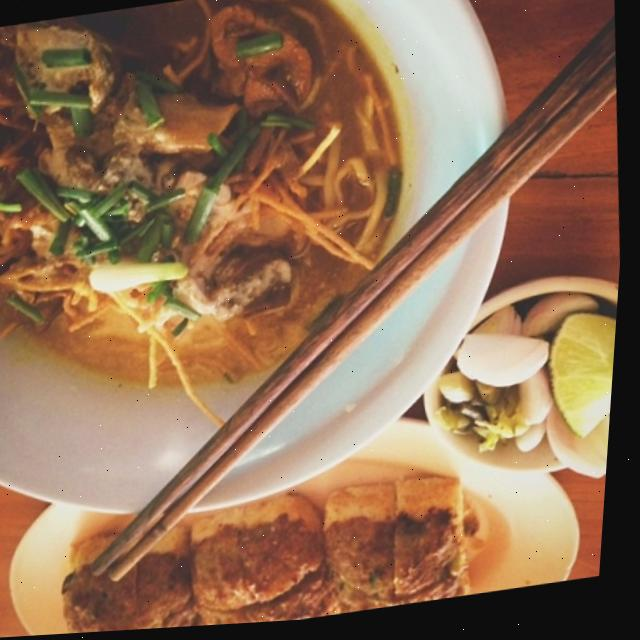面条主食: (0, 0, 437, 438)
